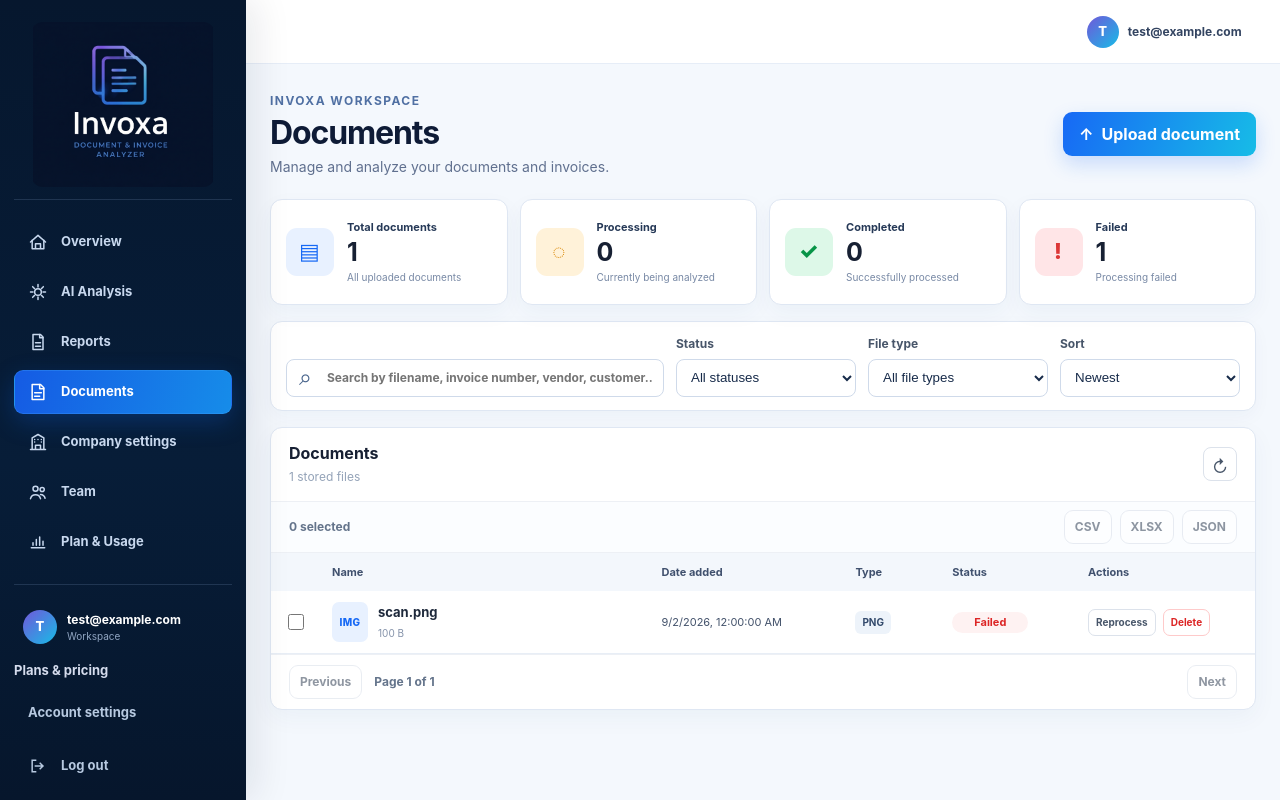
professional document detail › renders an image preview and a meaningful failed-processing error
The image size is (1280, 800).
(page scrolled)
Click the button "IMG scan.png 100 B". click: (350, 622)
box: [332,602,636,642]
(page scrolled)
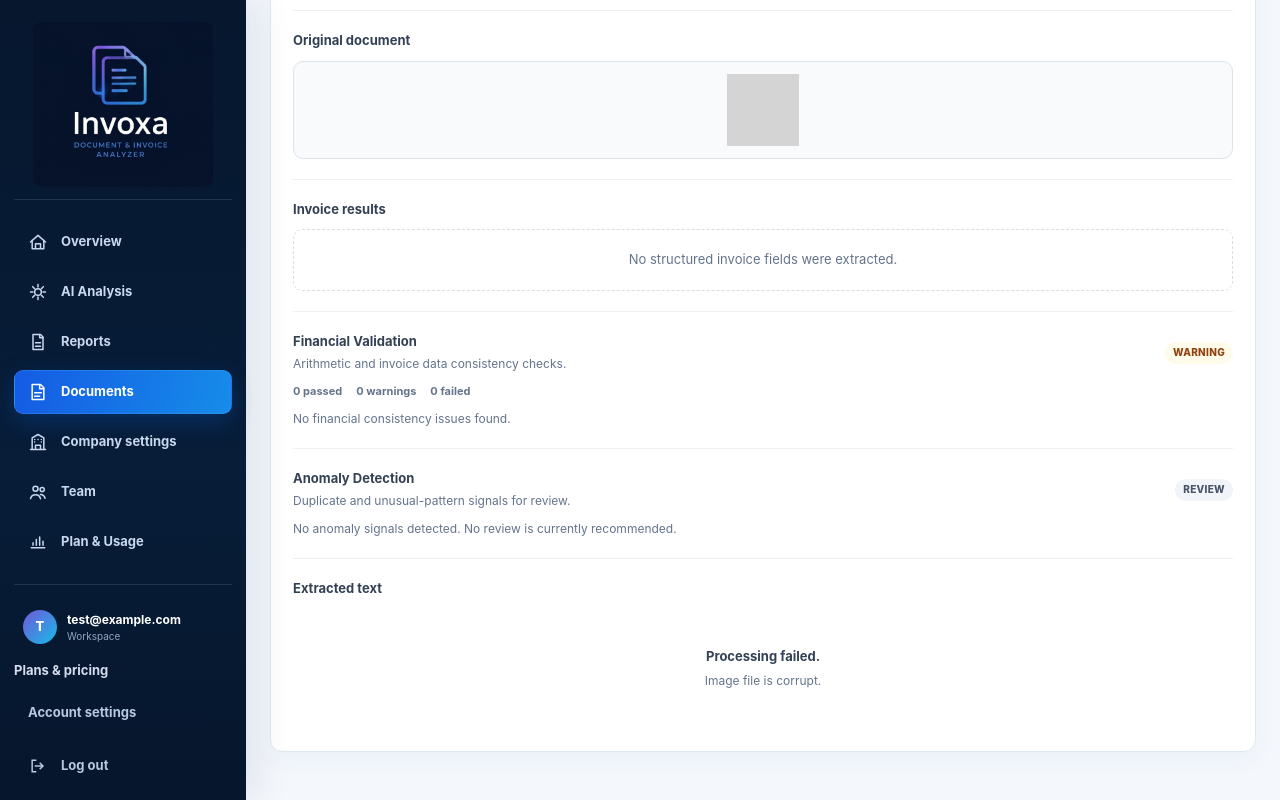
Check: the text "Image file is corrupt." is shown, box [705,673,821,688]
